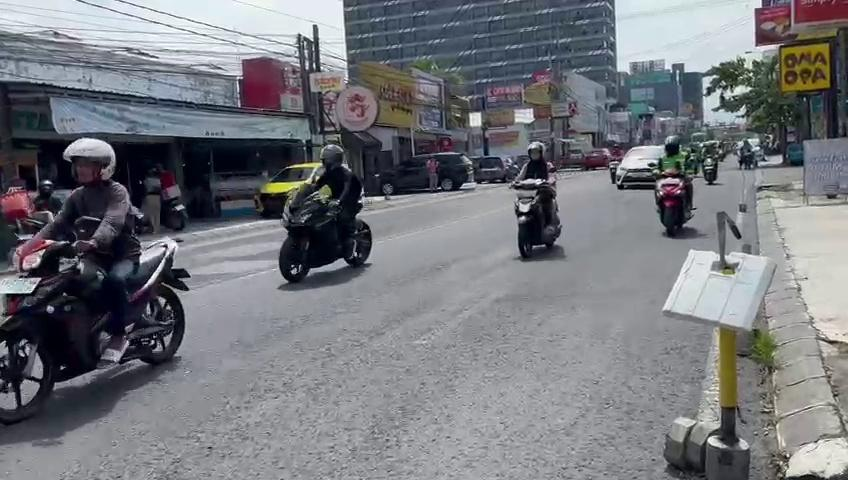helm: (62, 135, 119, 191), (317, 143, 345, 172)
riding: (0, 132, 196, 432), (273, 141, 379, 289)
